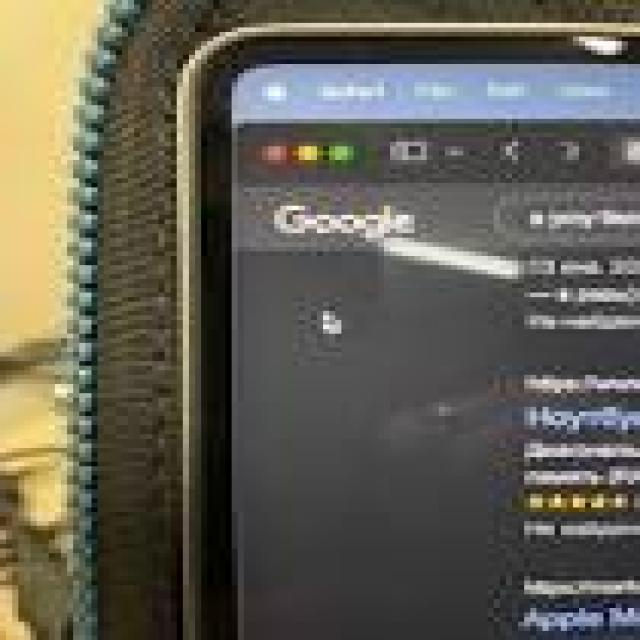dead_pixel: (302, 295, 360, 349)
